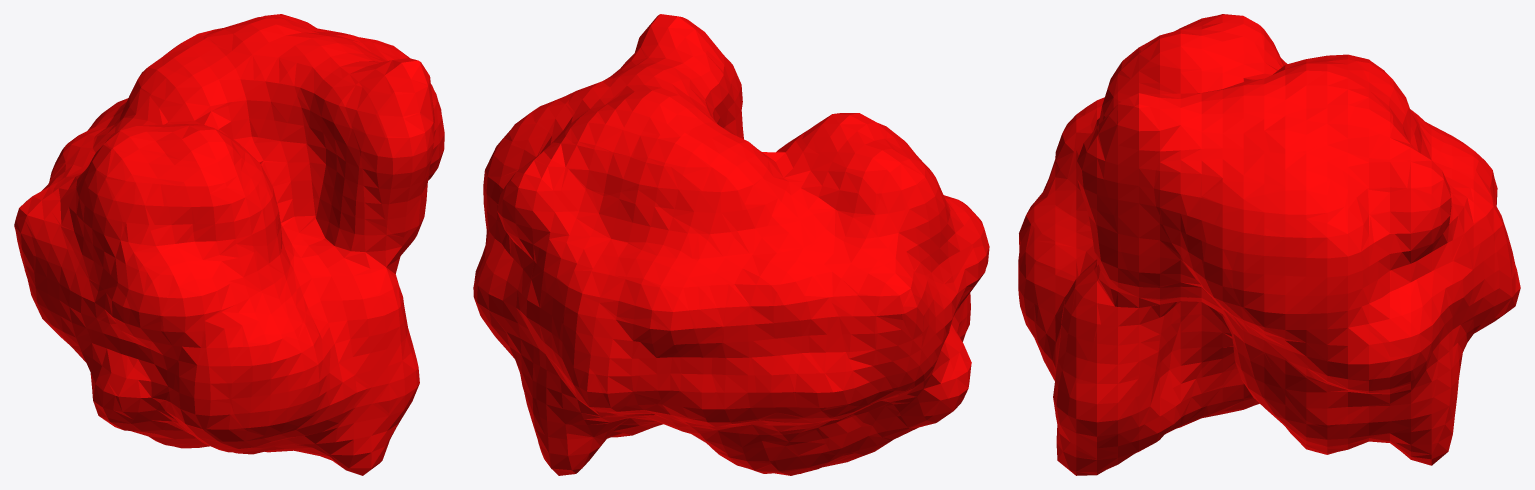
Rendered from diaA_coarse.dae.
3 views of the same model, side by side, from view 1: azimuth 30°, elevation 25°; view 2: azimuth 150°, elevation 25°; view 3: azimuth 270°, elevation 25° (orthographic). The views are drawn at different scales.
Parts seen in each view (by area): view 1: diaA; view 2: diaA; view 3: diaA.
Boxes of the visible parts, box(x1,y1,x2,y2) form: diaA: box(14, 14, 444, 475); diaA: box(473, 14, 989, 475); diaA: box(1018, 14, 1520, 475).
Bounding box in the file's own units: 59.43 × 53 × 57.57.
